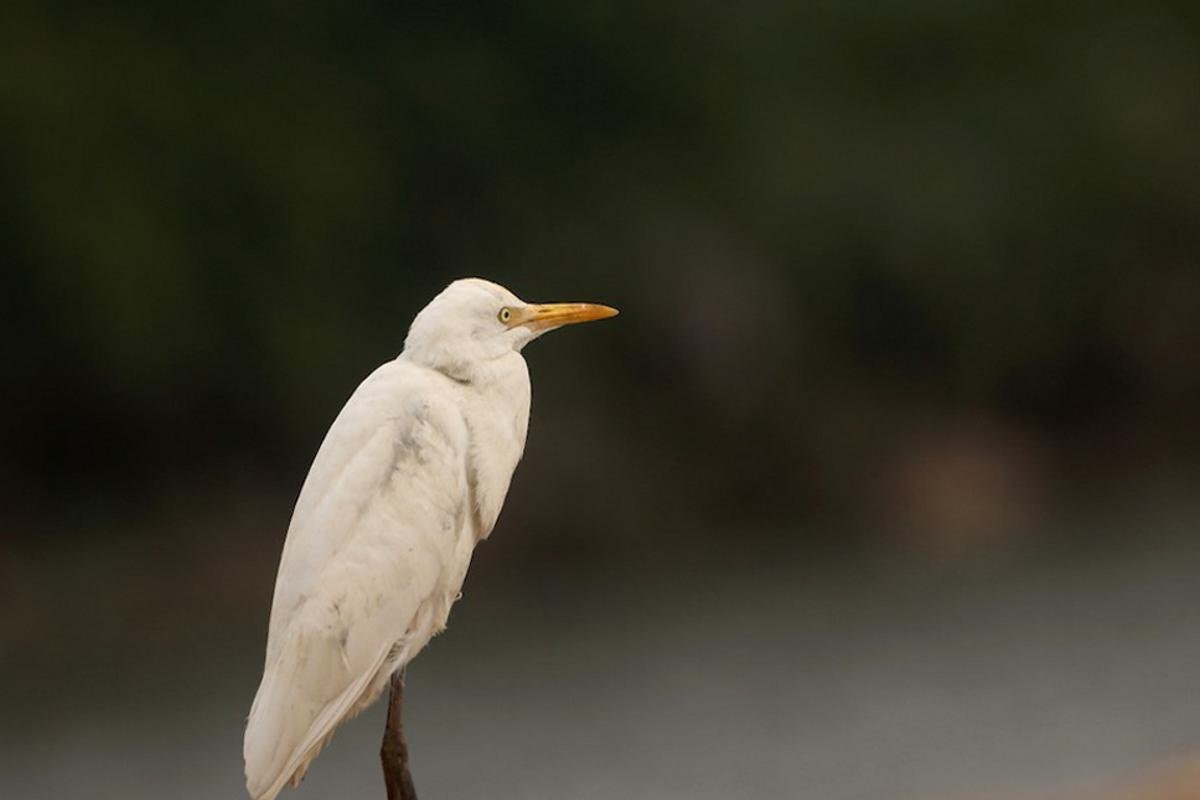egret: (196, 247, 660, 800)
